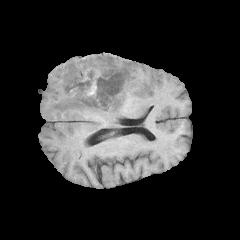glioma: (48, 54, 137, 124)
